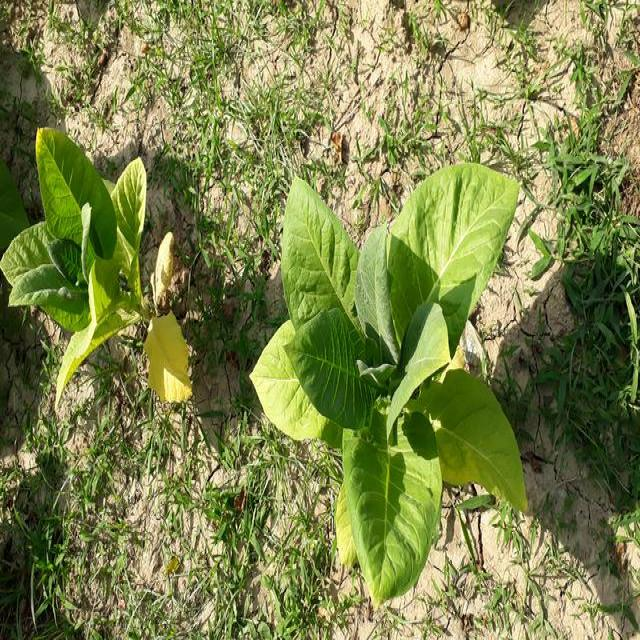crop: (260, 151, 522, 609), (7, 118, 185, 402)
